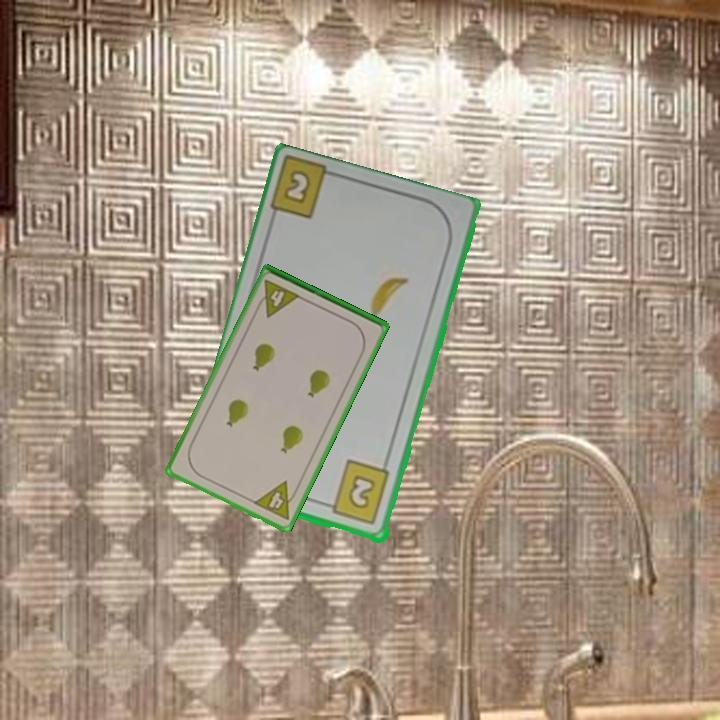2b: (320, 457, 393, 528), (280, 166, 314, 208)
4p: (250, 477, 302, 523), (252, 276, 303, 320)
